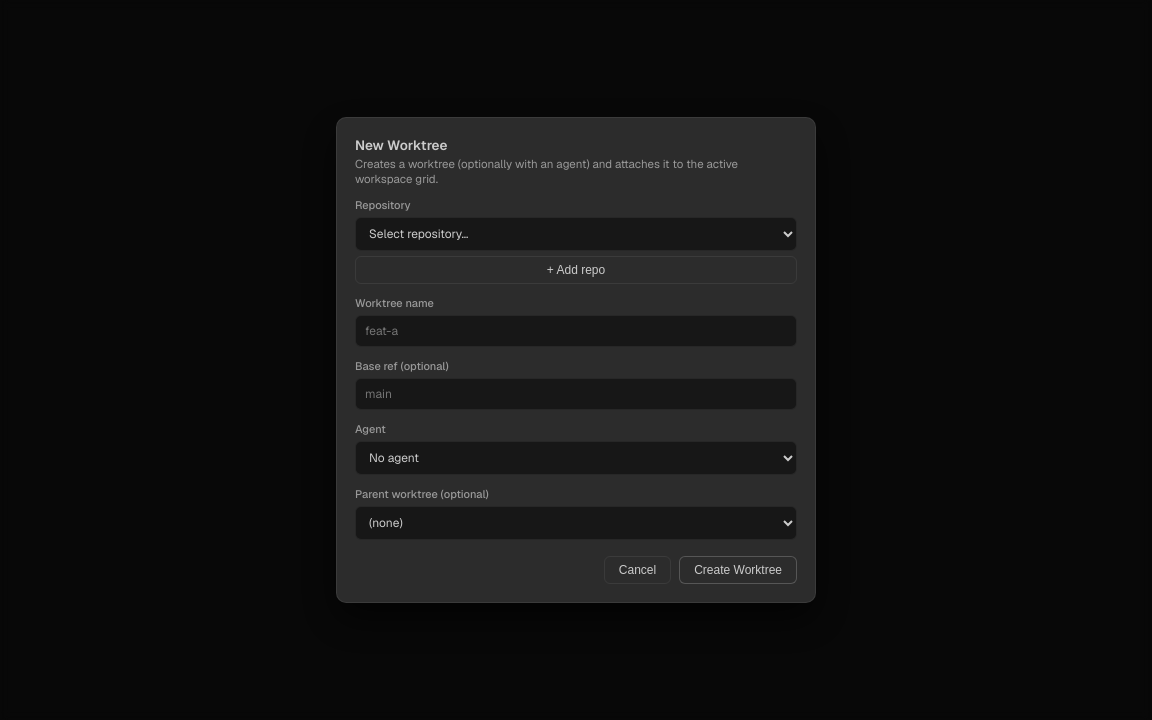
Test: WorktreeCreateModal › adds an unregistered repo path and selects it
Click the button "+ Add repo" at (576, 270), box [355,256,797,284]
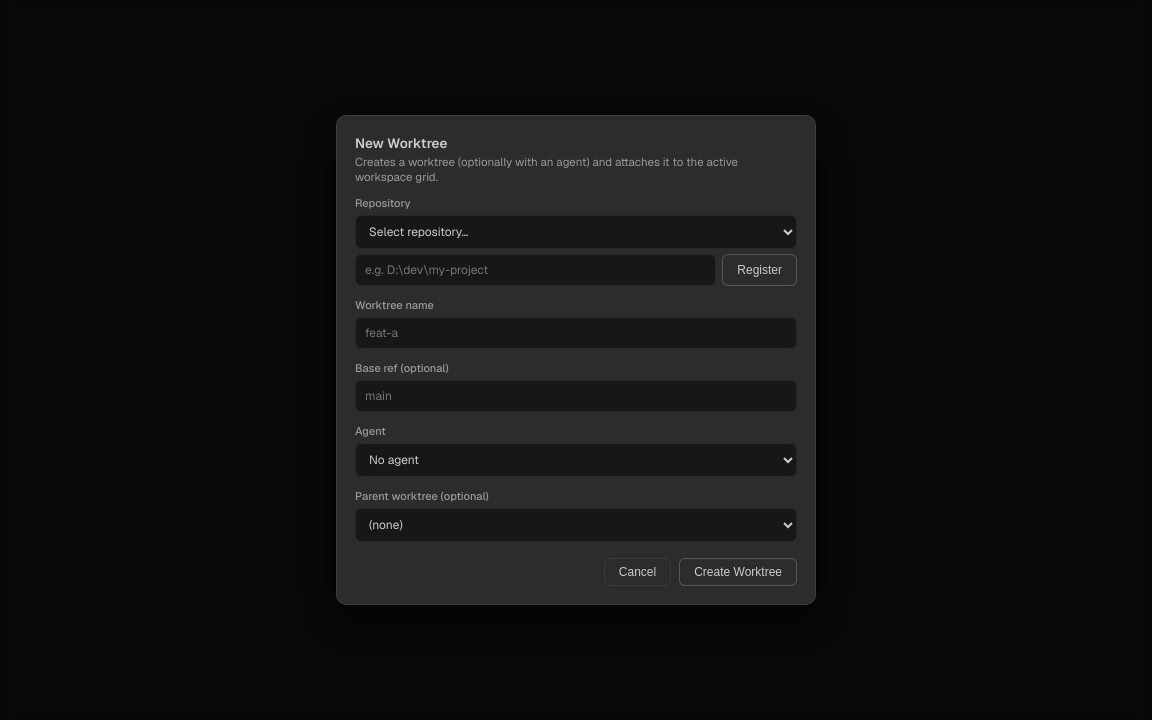
Type "C:/repos/fresh" into the field named "repository path" at (536, 270), box [355,254,716,286]
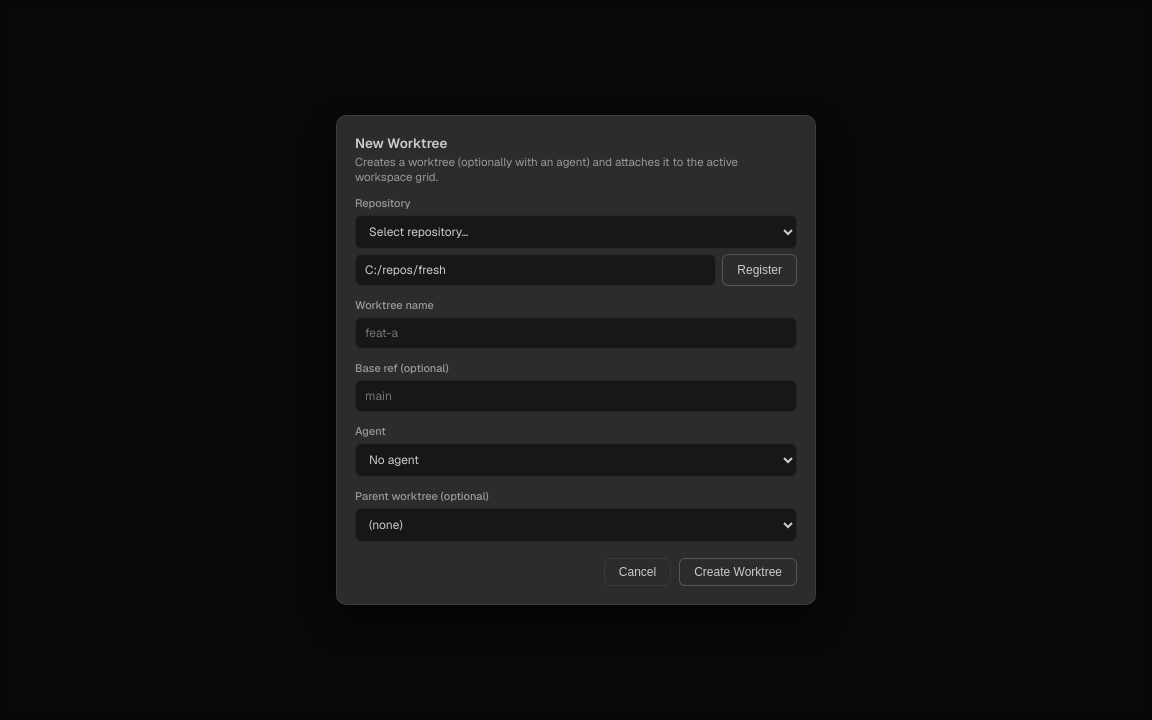
Click the button "Register" at (760, 270), box [722,254,797,286]
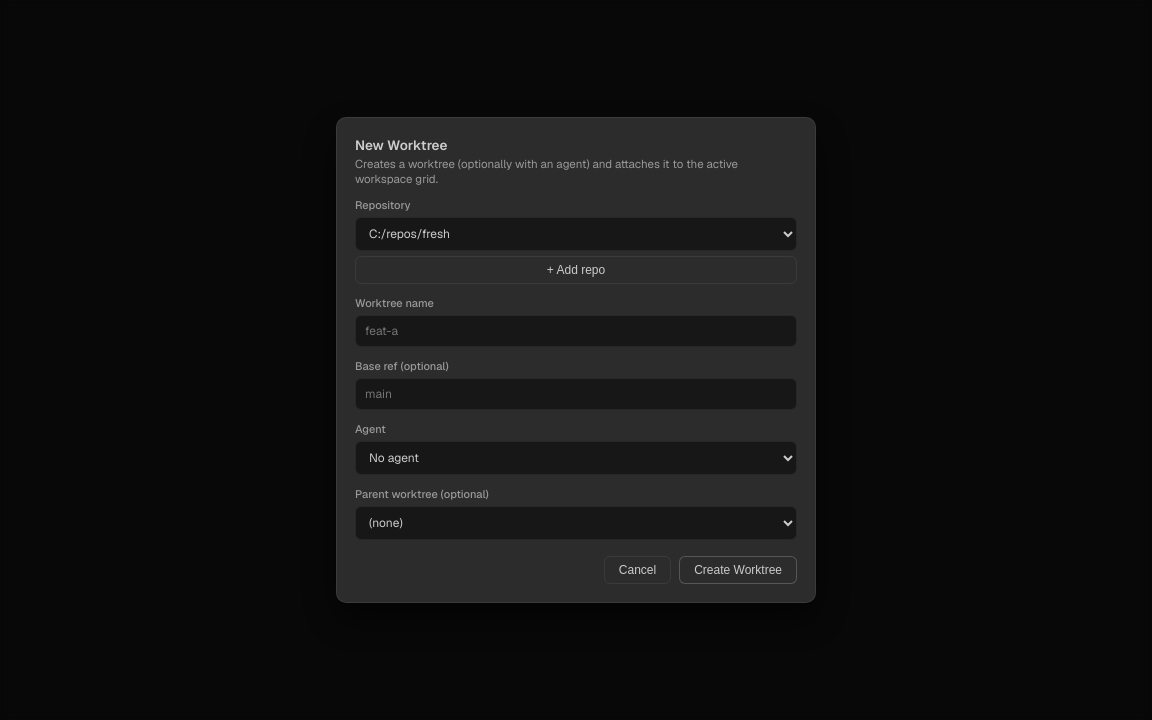
Now the dropdown labelled "Repository" shows "C:/repos/fresh", box [355,217,797,251]
